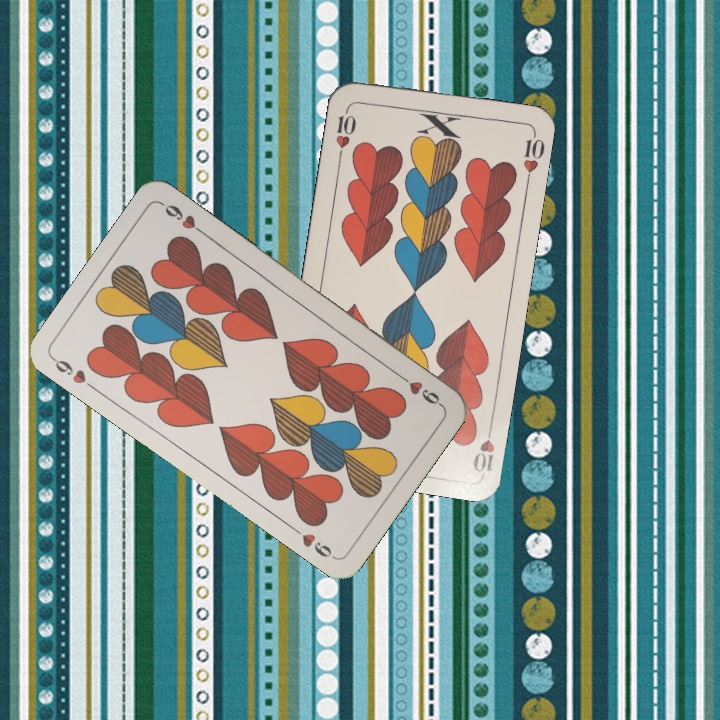H10: (469, 417, 497, 477), (331, 102, 359, 161)
H9: (49, 353, 100, 394), (393, 369, 444, 409)
